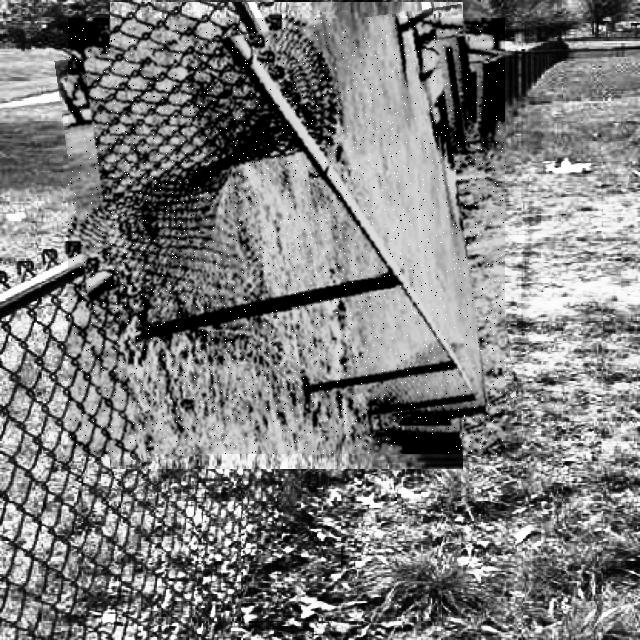anomaly-fence: (68, 18, 505, 454)
